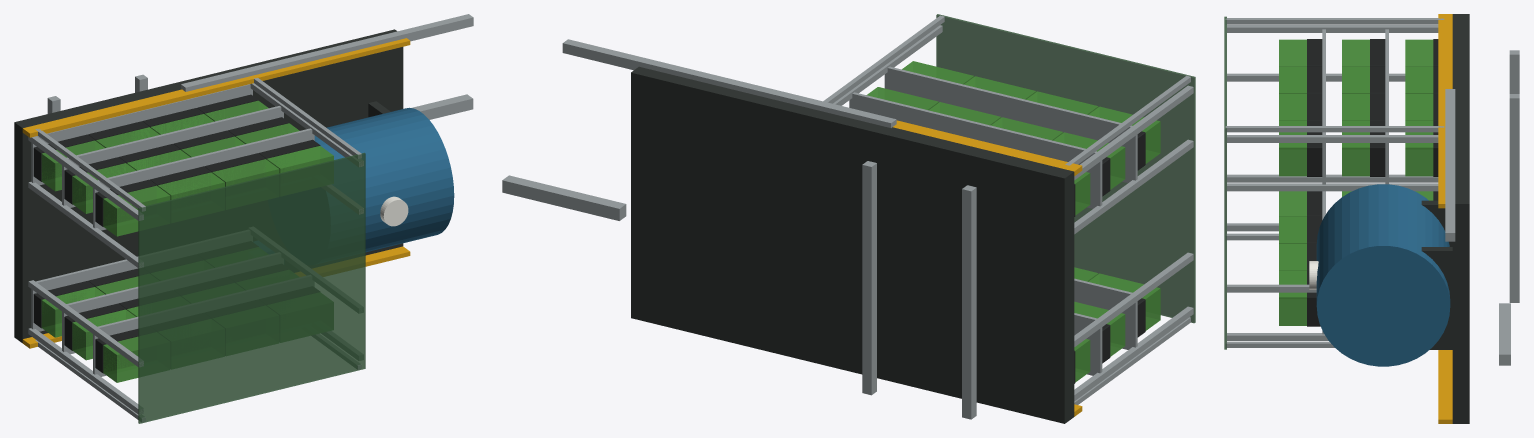
Rendered from trailer_link.obj.
The picture shows the model from 3 angles, left to right: view 1: azimuth 30°, elevation 25°; view 2: azimuth 150°, elevation 25°; view 3: azimuth 270°, elevation 25°; orthographic projection. The views are drawn at different scales.
Parts seen in each view (by area): view 1: shade_net_8, racks_82, deck_1, tank_4, side_rails_2, boom_rail_7, shade_posts_83, canopy_L1520_0_36, canopy_L1520_3_45, canopy_R1520_0_72, canopy_L1520_2_42, canopy_L1520_1_39 (+34 smaller); view 2: deck_1, shade_net_8, racks_82, axles_3, boom_rail_7, shade_posts_83, drawbar_0, side_rails_2, canopy_R1520_3_81, canopy_L1000_3_33, canopy_L1520_3_45, canopy_R1000_3_69 (+6 smaller); view 3: tank_4, racks_82, deck_1, shade_posts_83, side_rails_2, axles_3, boom_rail_7, tank_saddles_6, canopy_R1520_0_72, canopy_L480_0_12, canopy_L1000_0_24, canopy_L1520_0_36 (+25 smaller).
Part boxes in pixels (bbox=[...]): shade_net_8: bbox=[138, 152, 365, 423]; racks_82: bbox=[28, 83, 363, 414]; deck_1: bbox=[14, 29, 403, 342]; tank_4: bbox=[268, 107, 454, 264]; side_rails_2: bbox=[22, 38, 410, 348]; boom_rail_7: bbox=[181, 14, 473, 91]; shade_posts_83: bbox=[35, 78, 361, 422]; canopy_L1520_0_36: bbox=[266, 146, 333, 195]; canopy_L1520_3_45: bbox=[103, 185, 170, 236]; canopy_R1520_0_72: bbox=[280, 293, 333, 342]; canopy_L1520_2_42: bbox=[157, 172, 224, 222]; canopy_L1520_1_39: bbox=[212, 159, 279, 209]; deck_1: bbox=[631, 66, 1074, 423]; shade_net_8: bbox=[936, 14, 1195, 323]; racks_82: bbox=[833, 25, 1193, 400]; axles_3: bbox=[862, 161, 976, 419]; boom_rail_7: bbox=[562, 39, 896, 127]; shade_posts_83: bbox=[823, 15, 1191, 404]; drawbar_0: bbox=[502, 175, 626, 220]; side_rails_2: bbox=[893, 120, 1082, 416]; canopy_R1520_3_81: bbox=[1088, 273, 1160, 330]; canopy_L1000_3_33: bbox=[1053, 132, 1125, 189]; canopy_L1520_3_45: bbox=[1088, 106, 1160, 163]; canopy_R1000_3_69: bbox=[1074, 301, 1125, 356]; tank_4: bbox=[1316, 184, 1450, 366]; racks_82: bbox=[1227, 25, 1438, 340]; deck_1: bbox=[1452, 14, 1469, 423]; shade_posts_83: bbox=[1225, 18, 1444, 347]; side_rails_2: bbox=[1438, 14, 1452, 423]; axles_3: bbox=[1509, 50, 1519, 302]; boom_rail_7: bbox=[1445, 89, 1455, 241]; tank_saddles_6: bbox=[1421, 200, 1452, 349]; canopy_R1520_0_72: bbox=[1279, 270, 1306, 325]; canopy_L480_0_12: bbox=[1405, 121, 1433, 176]; canopy_L1000_0_24: bbox=[1342, 121, 1369, 176]; canopy_L1520_0_36: bbox=[1279, 121, 1306, 176].
Bounding box in the file's own units: 4.6 × 2.04 × 2.43.
